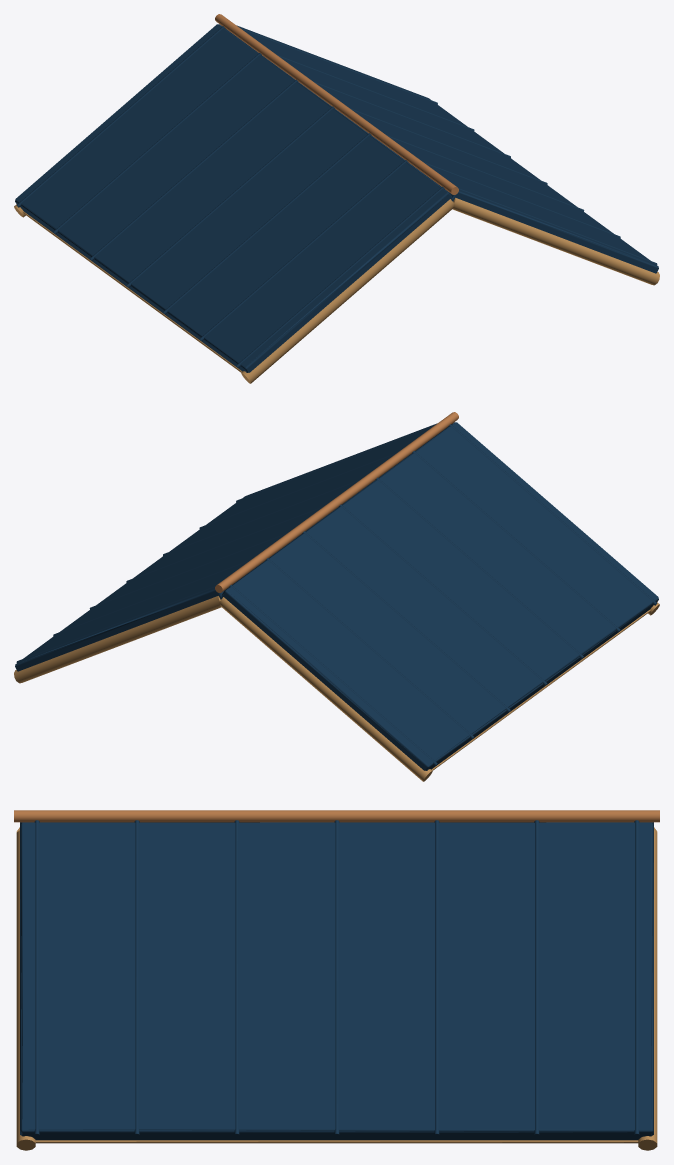
The model's file is roof-gabled.fbx.
3 renders of one model, top to bottom at view 1: azimuth 30°, elevation 25°; view 2: azimuth 150°, elevation 25°; view 3: azimuth 270°, elevation 25°, orthographic. The views are drawn at different scales.
Visible parts, largest first — view 1: roof-gabled; view 2: roof-gabled; view 3: roof-gabled.
Part boxes in pixels (x1,y1,x2,y2): roof-gabled: [14, 14, 659, 383]; roof-gabled: [14, 412, 659, 781]; roof-gabled: [14, 810, 659, 1150].
Size of the model in its own units: 432 by 148 by 420.
